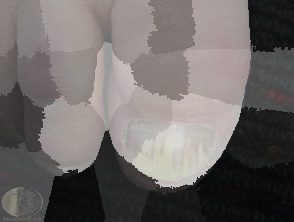Nail_psoriasis: (109, 106, 227, 197), (16, 141, 96, 193)
